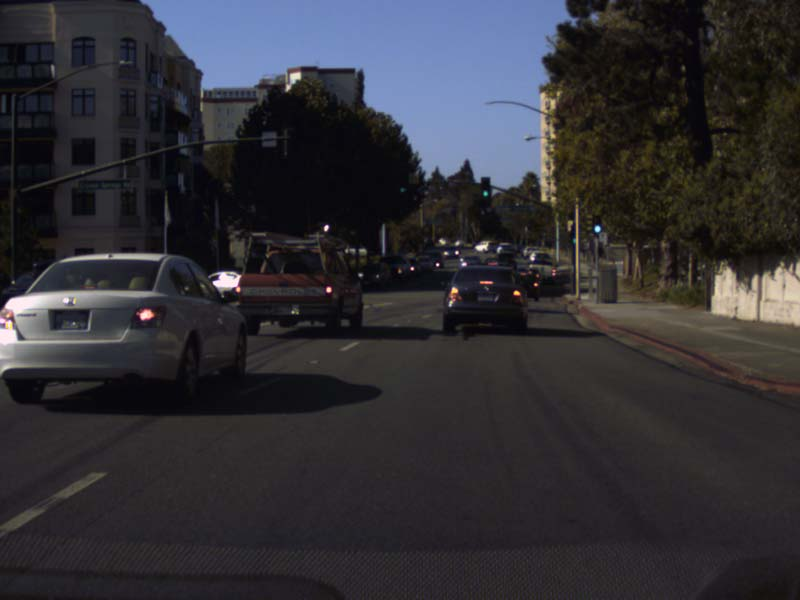Green: (480, 177, 489, 198), (593, 216, 601, 234), (570, 226, 578, 244), (398, 179, 406, 194), (480, 206, 486, 214), (542, 230, 547, 236), (527, 228, 529, 233)
